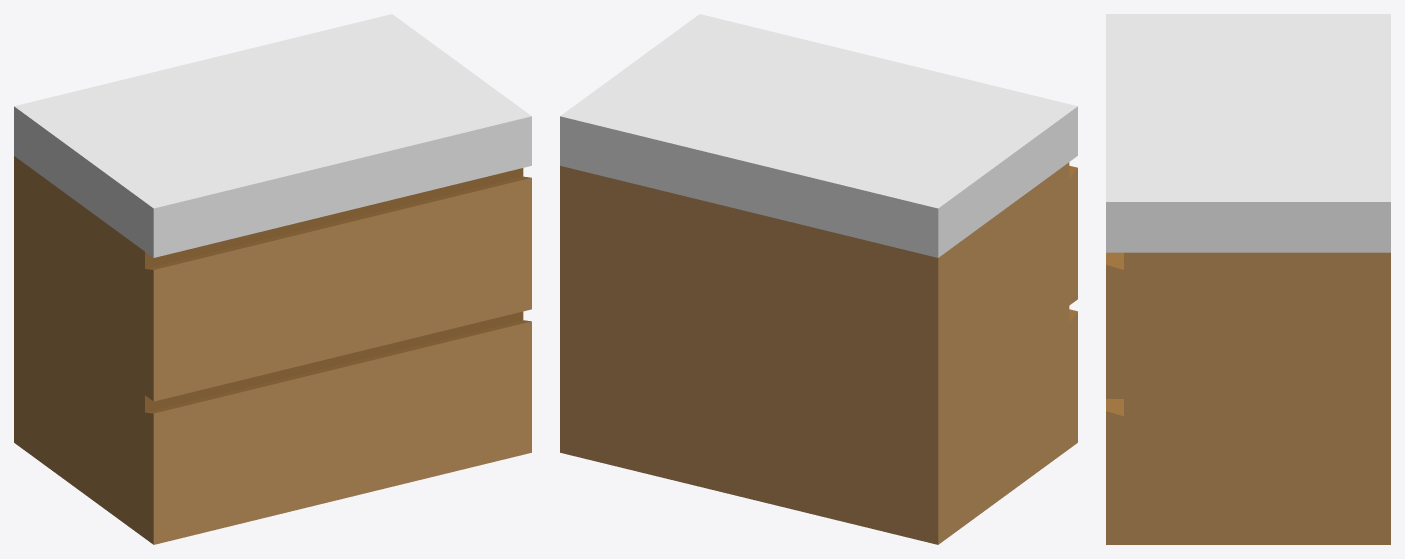
The model's file is furniture_cabinet-bathroom.fbx.
3 views of the same model, side by side, from view 1: azimuth 30°, elevation 25°; view 2: azimuth 150°, elevation 25°; view 3: azimuth 270°, elevation 25° (orthographic).
Visible parts, largest first — view 1: furniture_cabinet_bathroom; view 2: furniture_cabinet_bathroom; view 3: furniture_cabinet_bathroom.
Boxes of the visible parts, x1,y1,x2,y2 form: furniture_cabinet_bathroom: (14, 14, 531, 544); furniture_cabinet_bathroom: (560, 14, 1077, 544); furniture_cabinet_bathroom: (1106, 14, 1390, 544).
Bounding box in the file's own units: 174 × 148 × 111.
